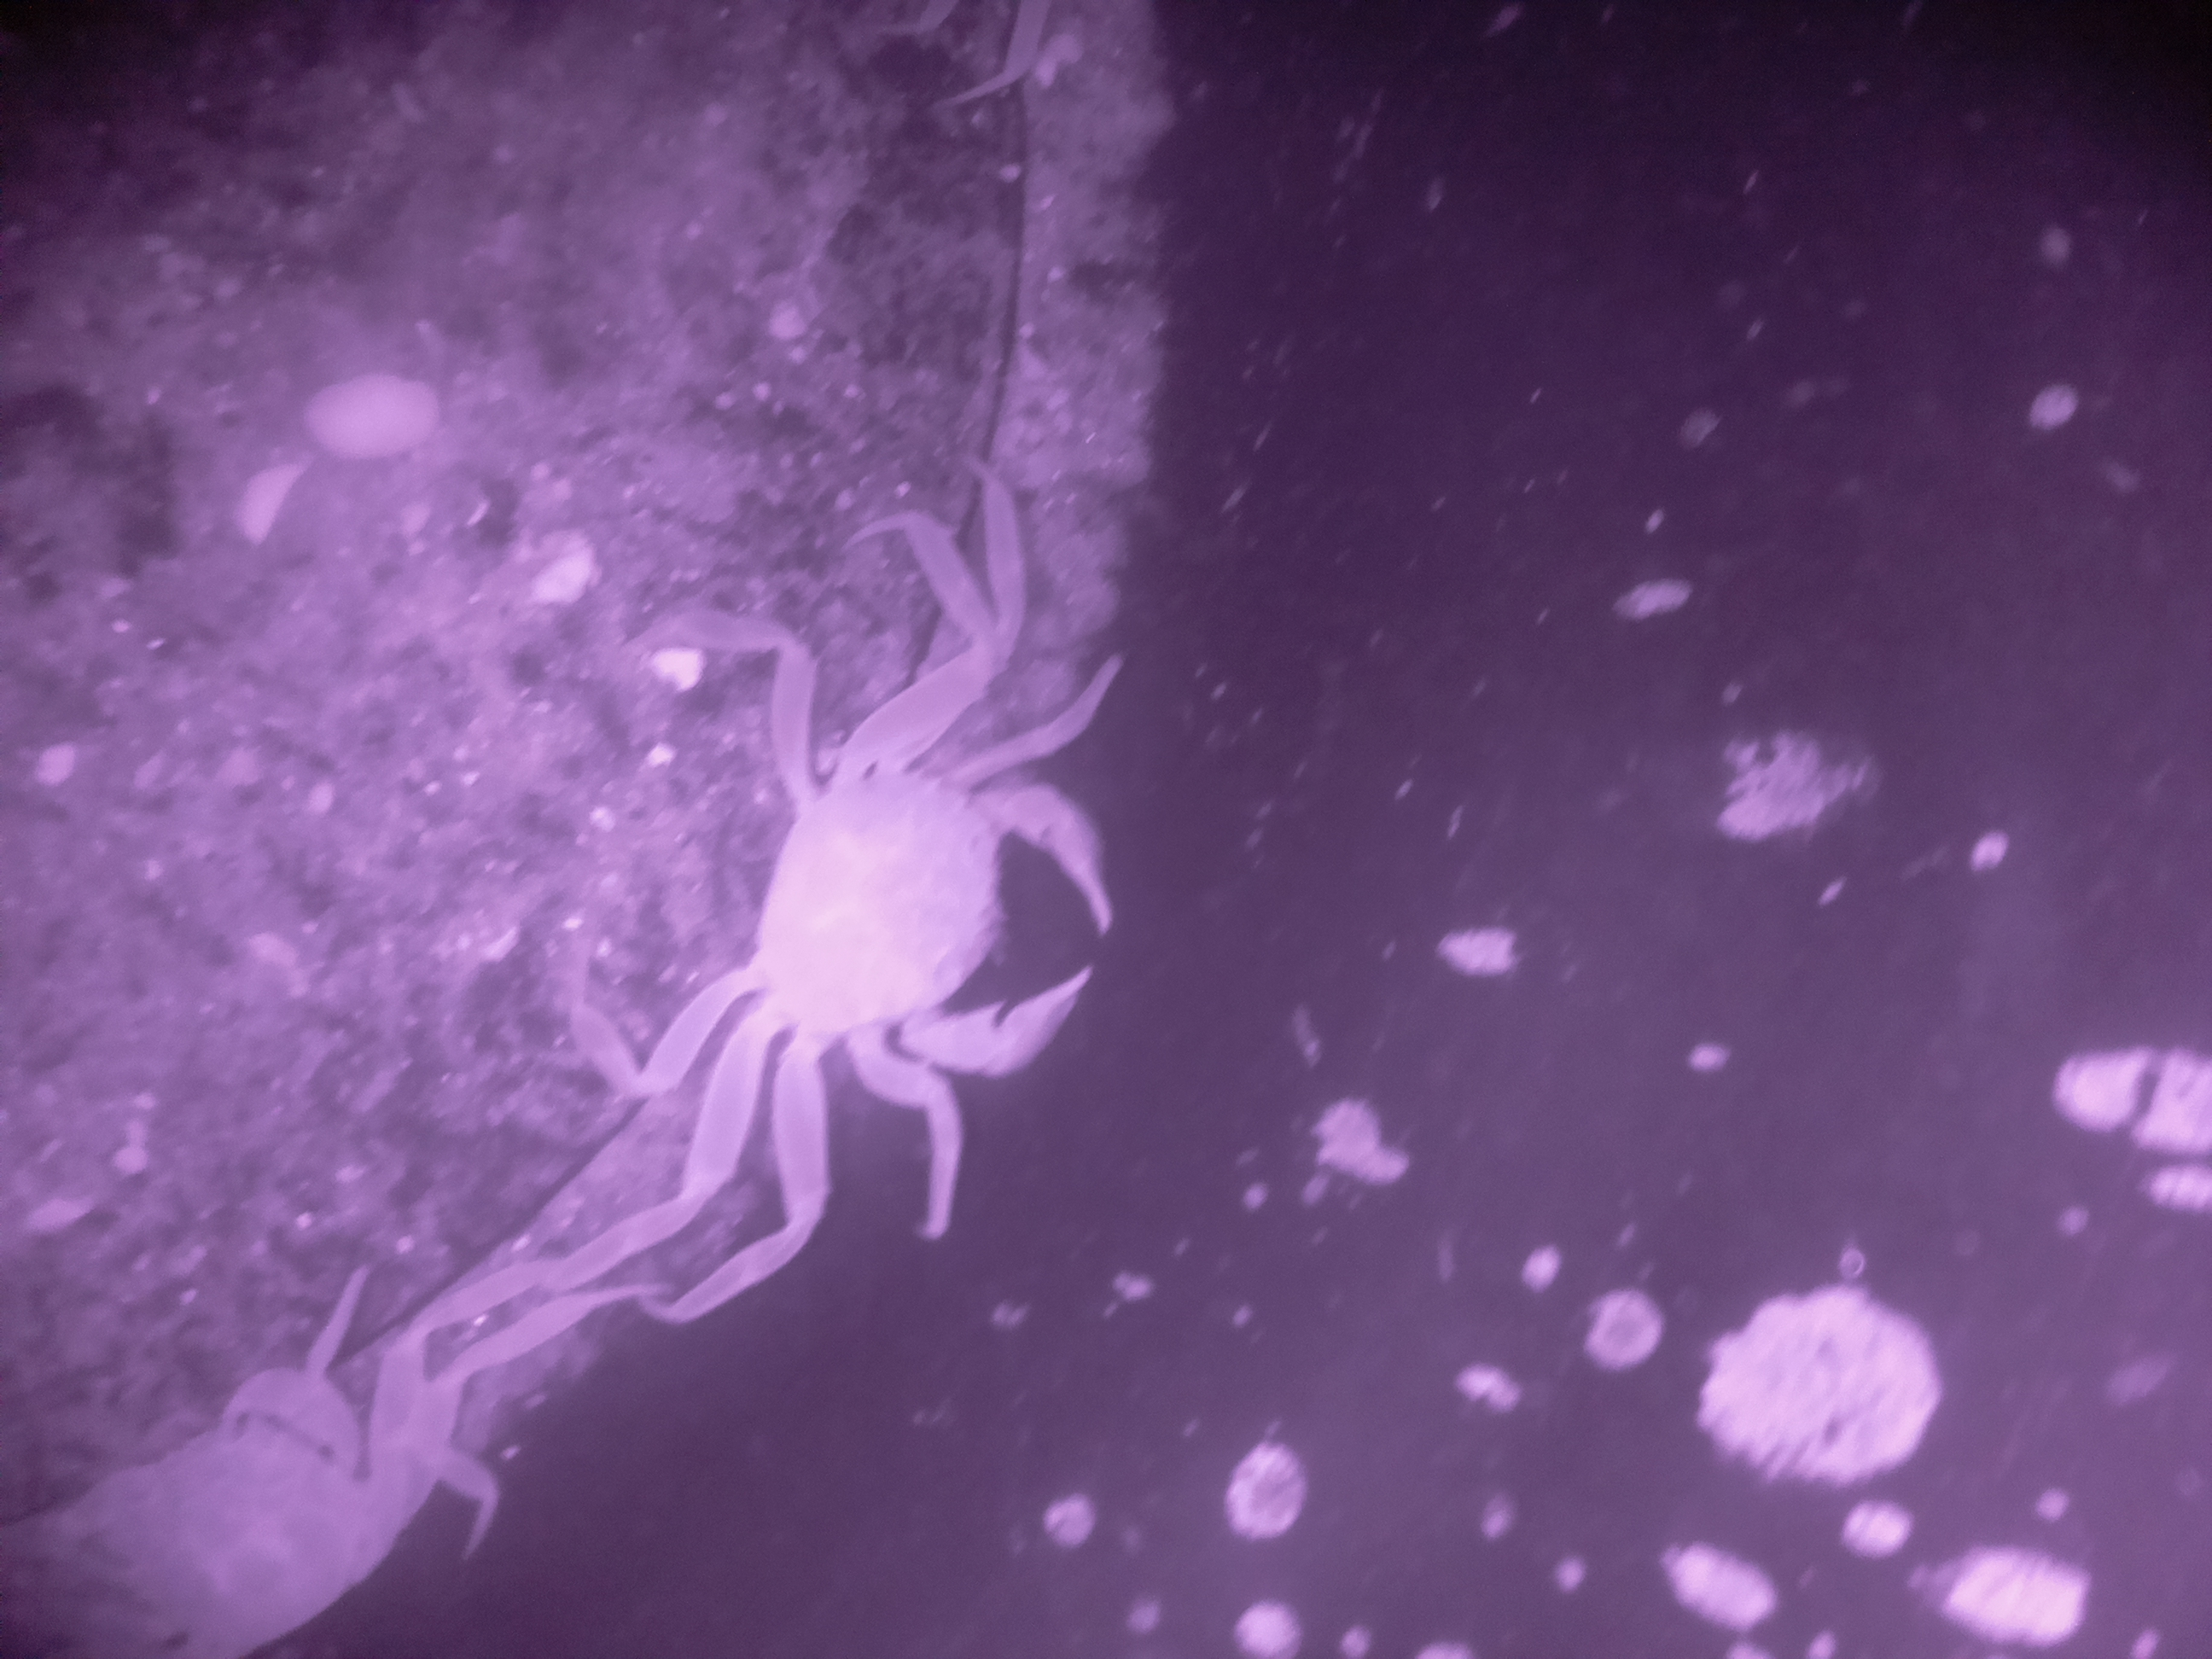Crab: (662, 676, 1204, 1201)
